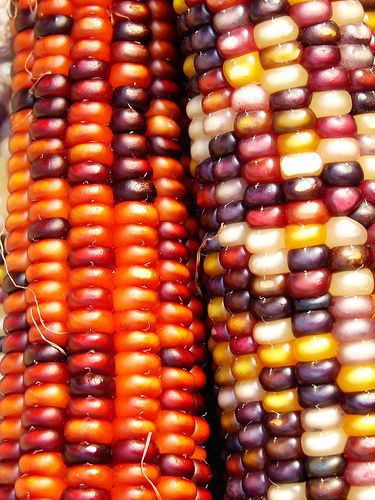corn: (0, 1, 215, 498), (171, 0, 373, 498)
